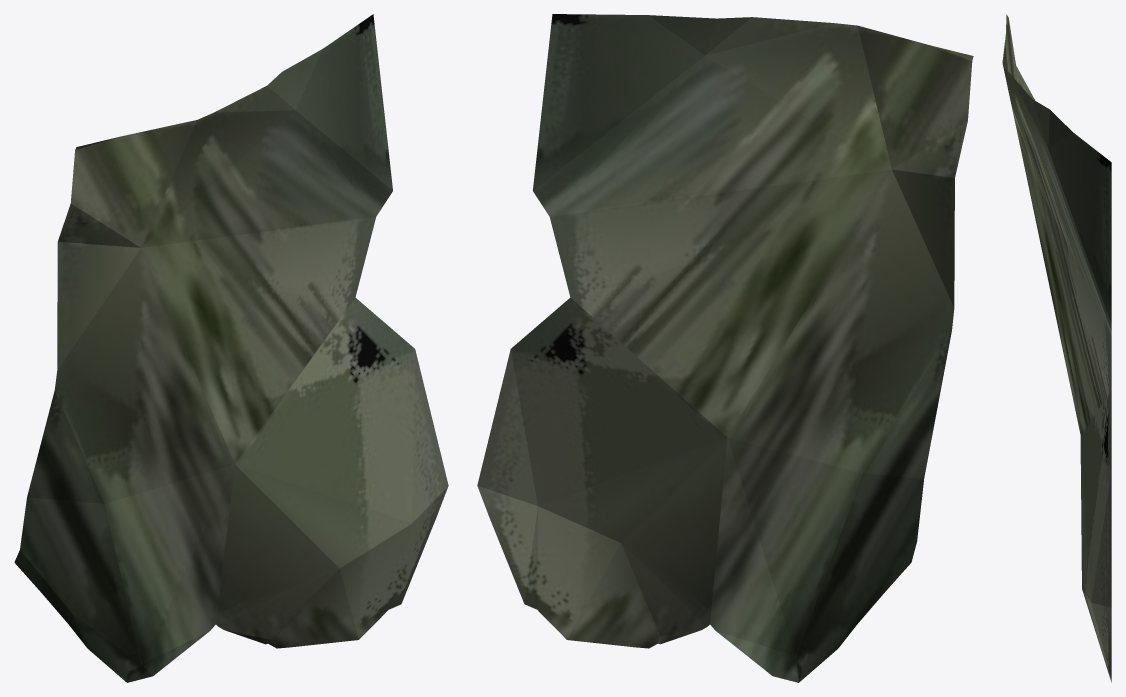
3 renders of one model, left to right at view 1: azimuth 30°, elevation 25°; view 2: azimuth 150°, elevation 25°; view 3: azimuth 270°, elevation 25°, orthographic. The views are drawn at different scales.
Size of the model in its own units: 3.82 by 5.24 by 0.9827.
Materials: 2 (2 with a texture image).
